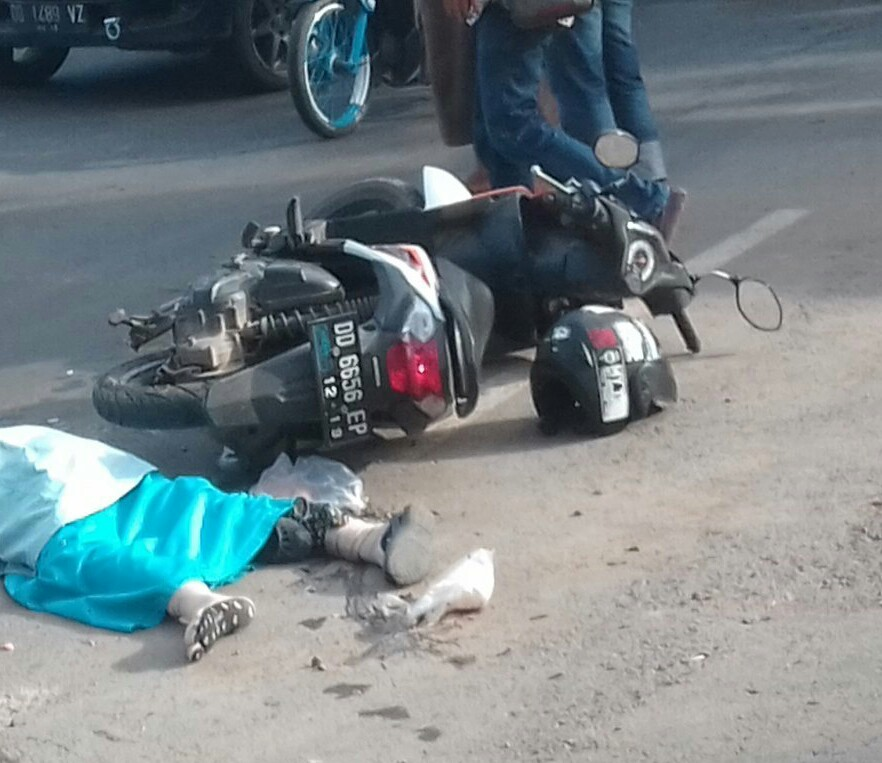plate: (309, 313, 375, 445)
